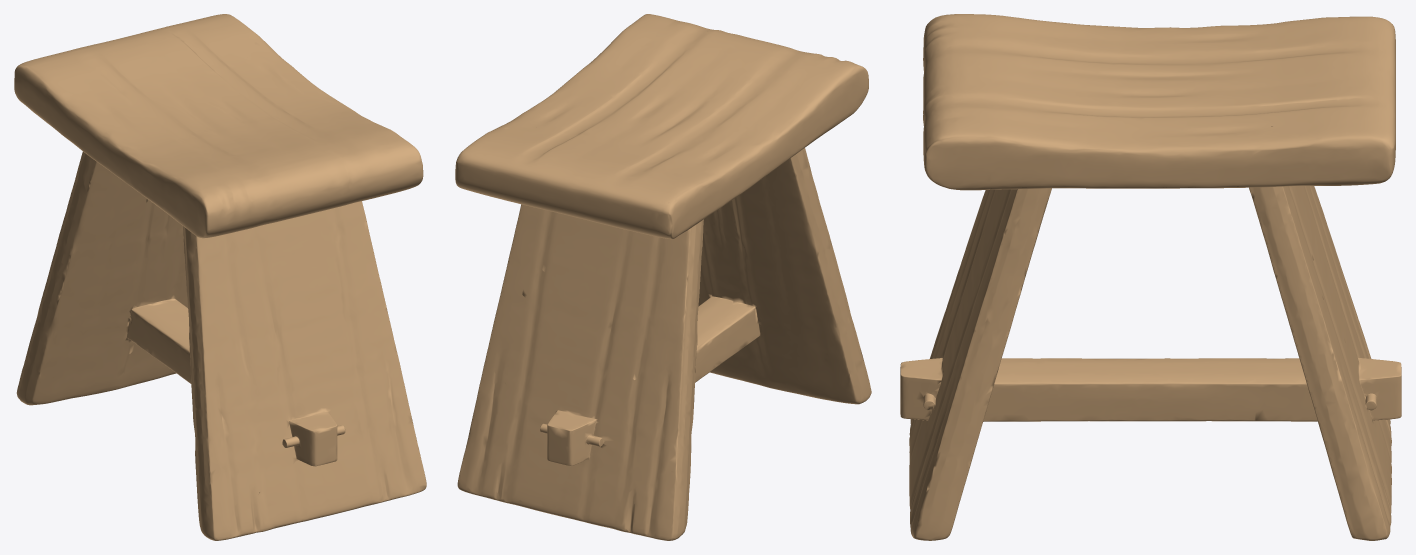
3 renders of one model, left to right at view 1: azimuth 30°, elevation 25°; view 2: azimuth 150°, elevation 25°; view 3: azimuth 270°, elevation 25°, orthographic. The views are drawn at different scales.
Parts seen in each view (by area): view 1: tripo_node_9e3e5c63-d04c-4b6f-b852-0def5e0eda62; view 2: tripo_node_9e3e5c63-d04c-4b6f-b852-0def5e0eda62; view 3: tripo_node_9e3e5c63-d04c-4b6f-b852-0def5e0eda62.
Boxes of the visible parts, <box> form: tripo_node_9e3e5c63-d04c-4b6f-b852-0def5e0eda62: <box>14,14,426,540</box>; tripo_node_9e3e5c63-d04c-4b6f-b852-0def5e0eda62: <box>455,14,871,540</box>; tripo_node_9e3e5c63-d04c-4b6f-b852-0def5e0eda62: <box>900,14,1401,540</box>.
Bounding box in the file's own units: 0.3 × 0.45 × 0.5.
